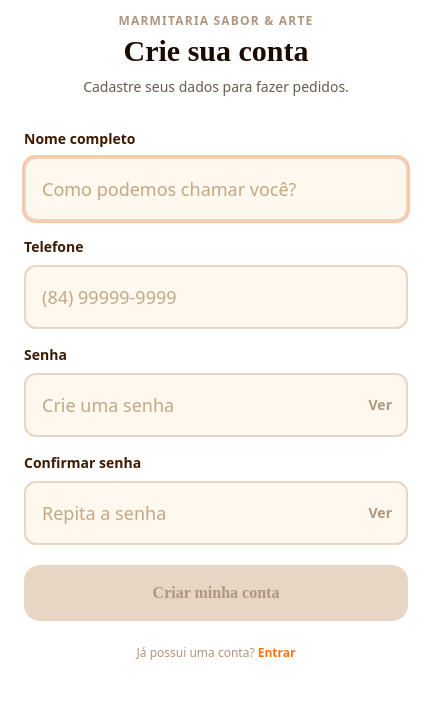
Test: ClientRegisterPage › mostra mensagem de erro inesperado quando o erro do cadastro não é do axios
Type "Maria Silva" into the field labelled "Nome completo" at (216, 189), box [24,157,408,221]
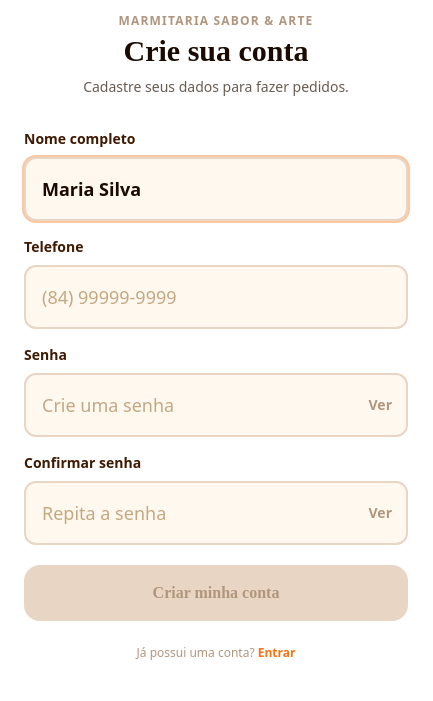
Type "84999999999" into the field labelled "Telefone" at (216, 297), box [24,265,408,329]
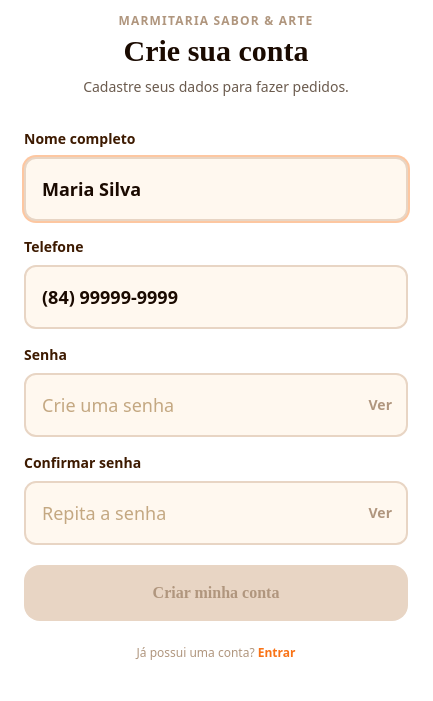
Type "12345678" into the password field labelled "Senha" at (216, 405), box [24,373,408,437]
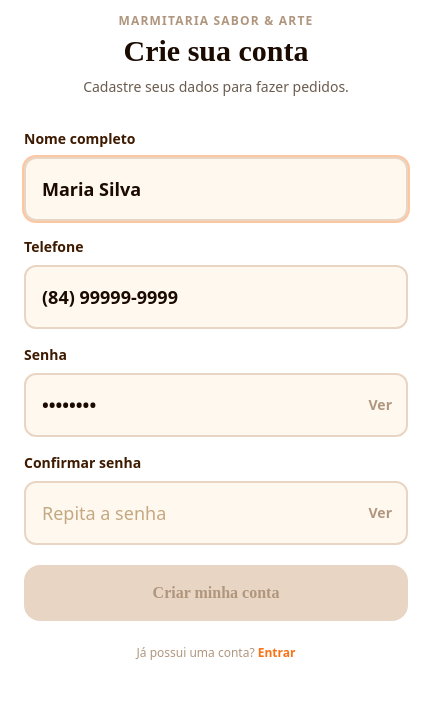
Type "12345678" into the password field labelled "Confirmar senha" at (216, 513), box [24,481,408,545]
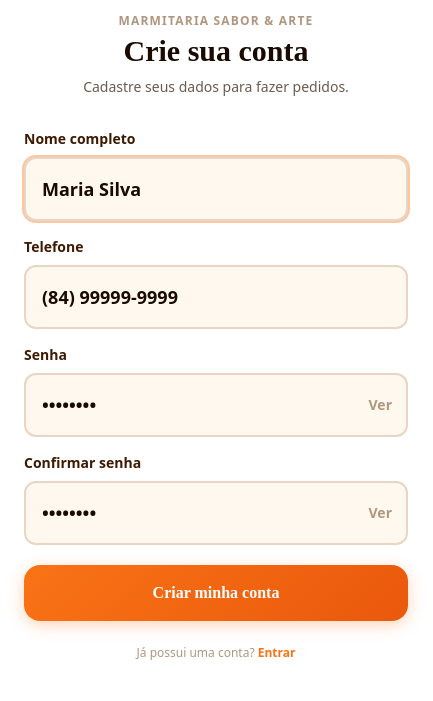
Check: the button "Criar minha conta" is enabled
Click the button "Criar minha conta" at (216, 593), box [24,565,408,621]
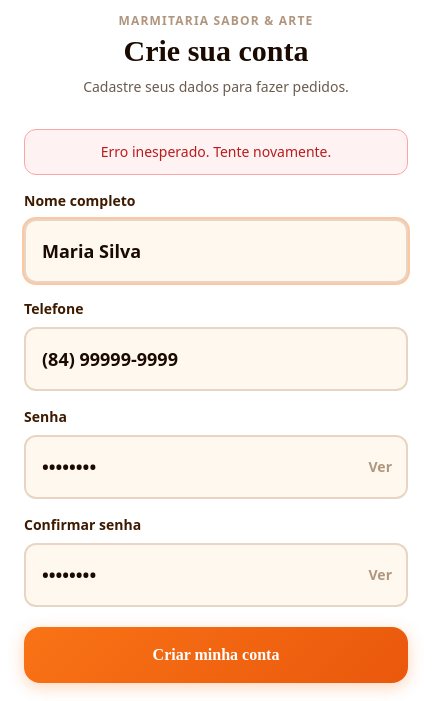
Check: the text "Erro inesperado. Tente novamente." is shown, box [24,129,408,175]
